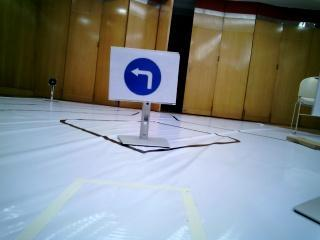left: (116, 50, 176, 101)
